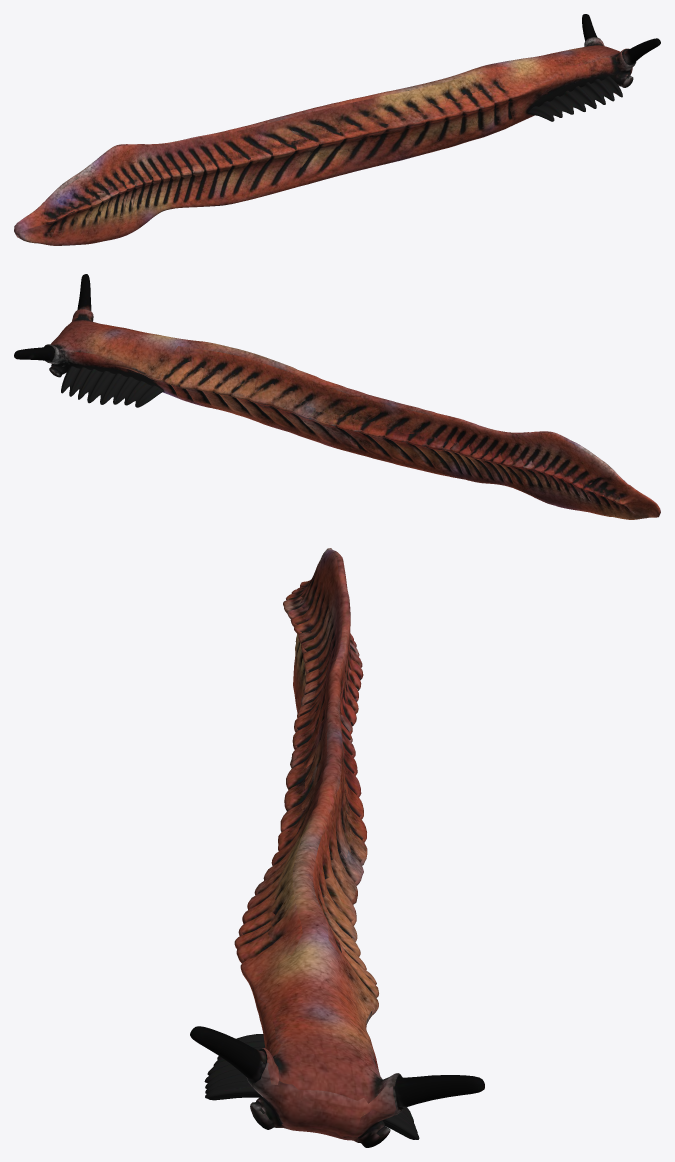
The picture shows the model from 3 angles, top to bottom: view 1: azimuth 30°, elevation 25°; view 2: azimuth 150°, elevation 25°; view 3: azimuth 270°, elevation 25°; orthographic projection. The views are drawn at different scales.
Parts seen in each view (by area): view 1: Pikaia001; view 2: Pikaia001; view 3: Pikaia001.
Boxes of the visible parts, left/top/right/bottom form: Pikaia001: left=14, top=14, right=660, bottom=245; Pikaia001: left=14, top=274, right=660, bottom=519; Pikaia001: left=190, top=548, right=484, bottom=1147.
Bounding box in the file's own units: 254 × 36.63 × 53.22.
Materials: 1 (1 with a texture image).
